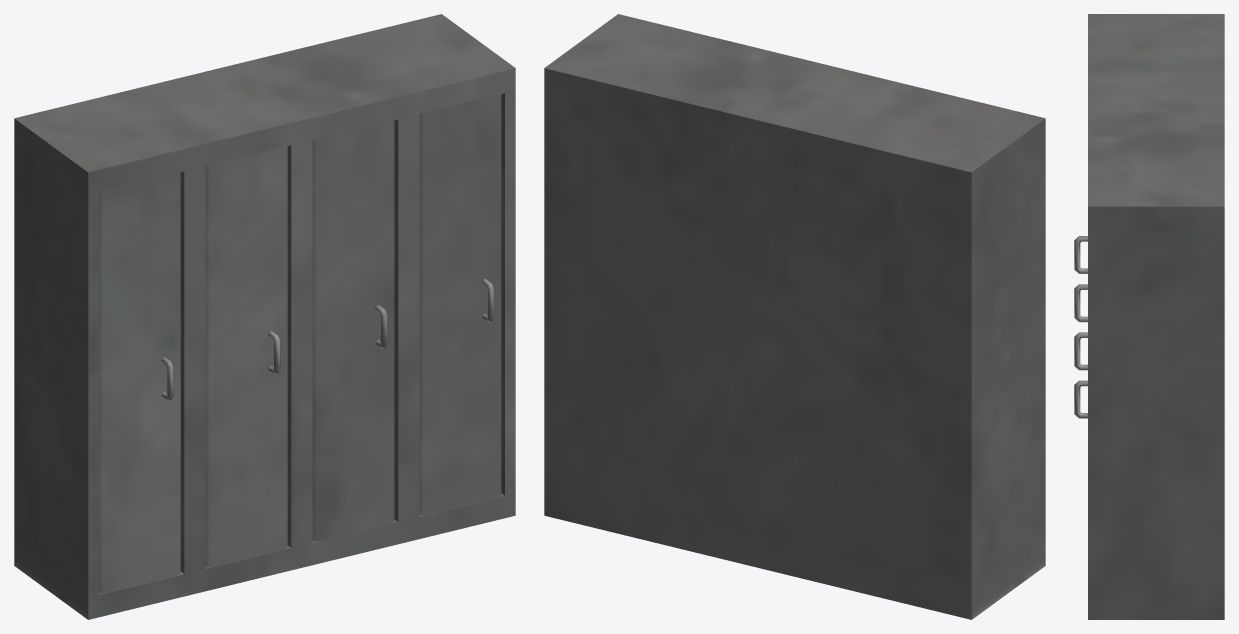
File: locker_quad.obj
The picture shows the model from 3 angles, left to right: view 1: azimuth 30°, elevation 25°; view 2: azimuth 150°, elevation 25°; view 3: azimuth 270°, elevation 25°; orthographic projection. The views are drawn at different scales.
Visible parts, largest first — view 1: locker_quad__EXPORT_TEMP; view 2: locker_quad__EXPORT_TEMP; view 3: locker_quad__EXPORT_TEMP.
Part boxes in pixels (left/top/right/bottom): locker_quad__EXPORT_TEMP: left=14, top=14, right=515, bottom=619; locker_quad__EXPORT_TEMP: left=544, top=14, right=1045, bottom=619; locker_quad__EXPORT_TEMP: left=1074, top=14, right=1224, bottom=619.
Size of the model in its own units: 2 by 2 by 0.6607.
